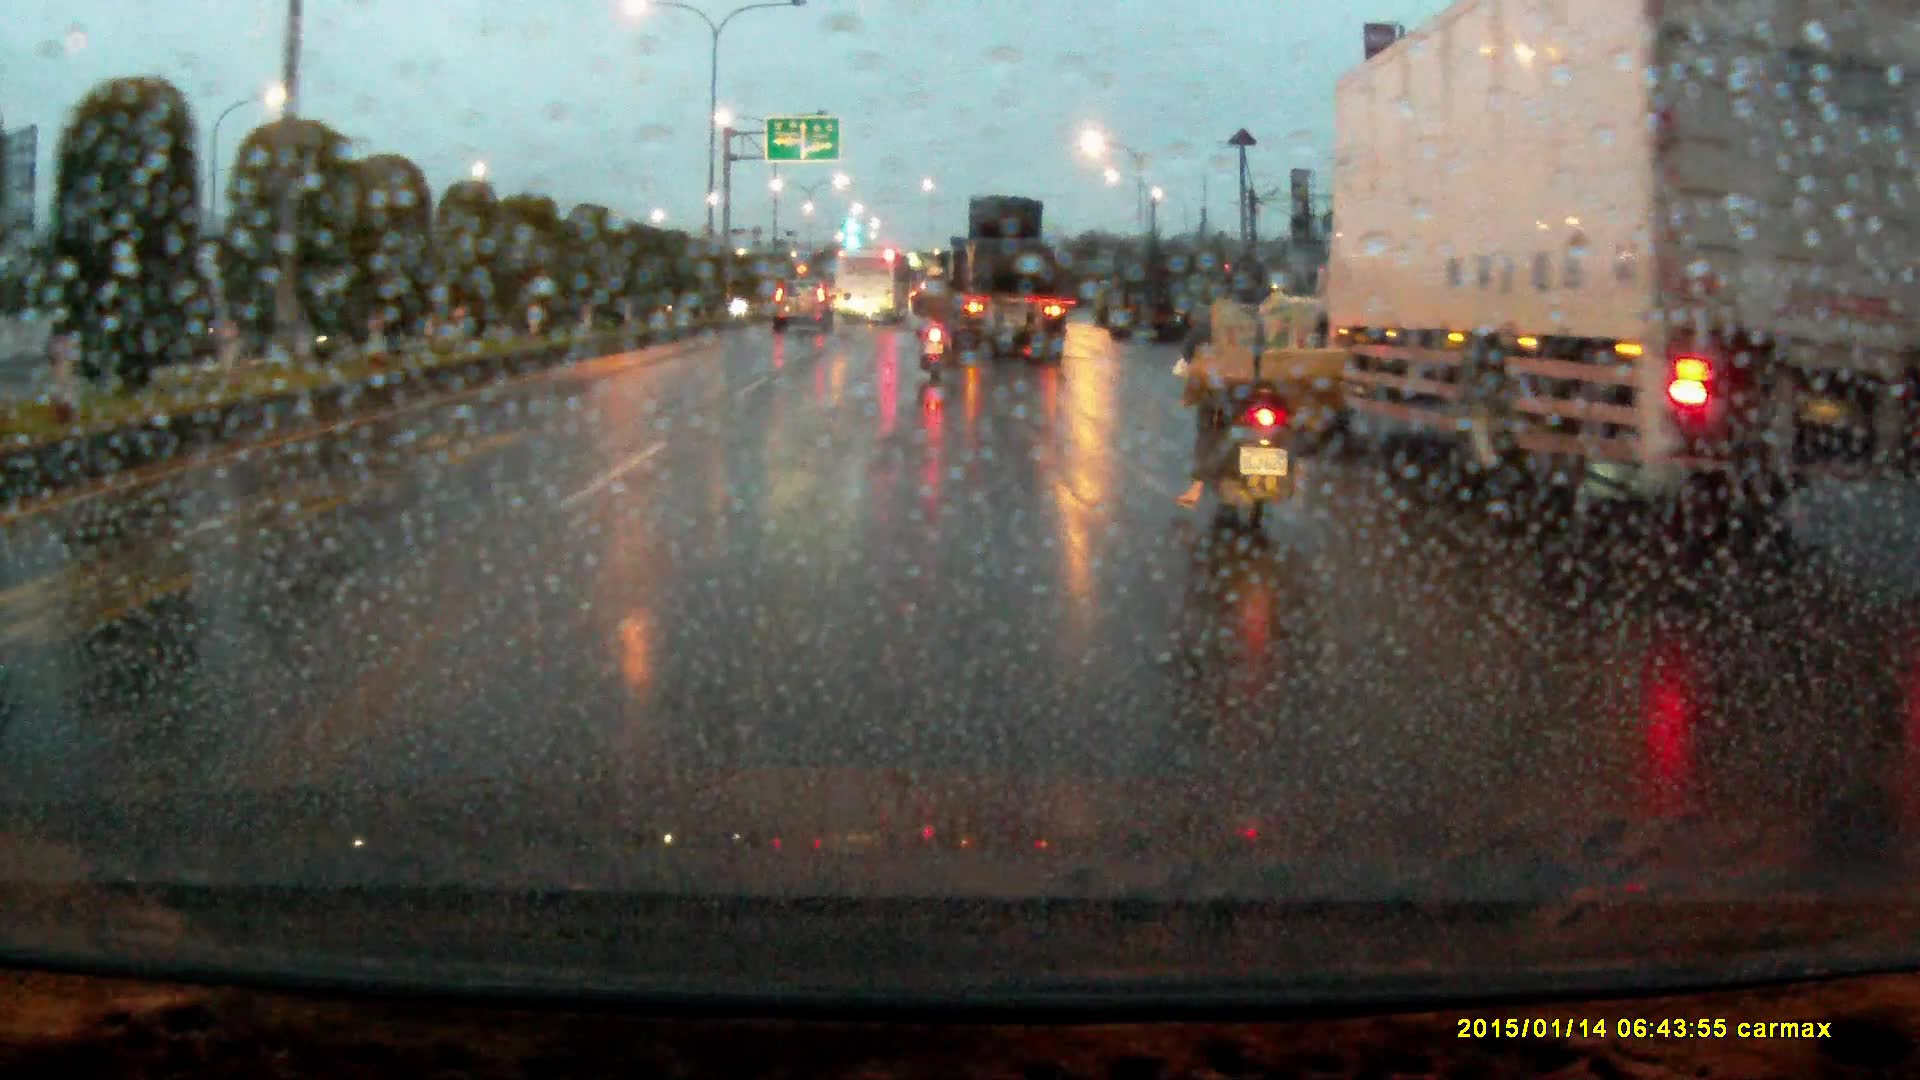rider: (1174, 253, 1359, 571), (912, 287, 955, 390)
vehicle: (1316, 1, 1903, 521), (930, 199, 1067, 368), (1102, 263, 1184, 351), (833, 255, 906, 332), (774, 281, 835, 342)
